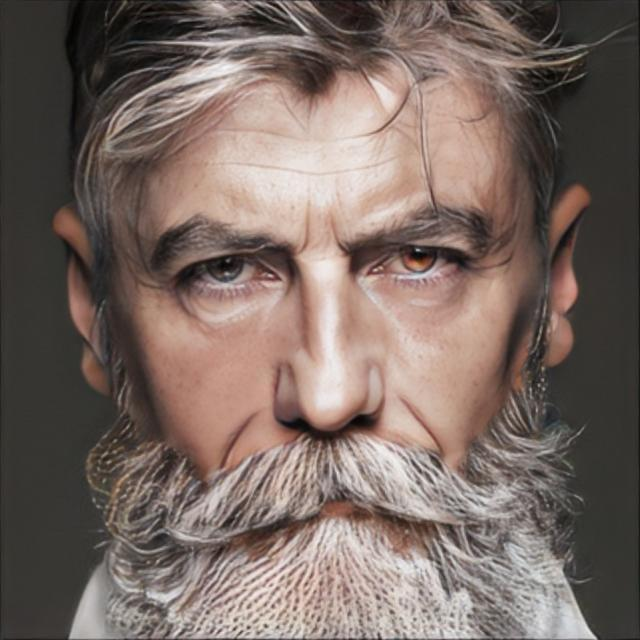anger: (119, 73, 534, 598)
